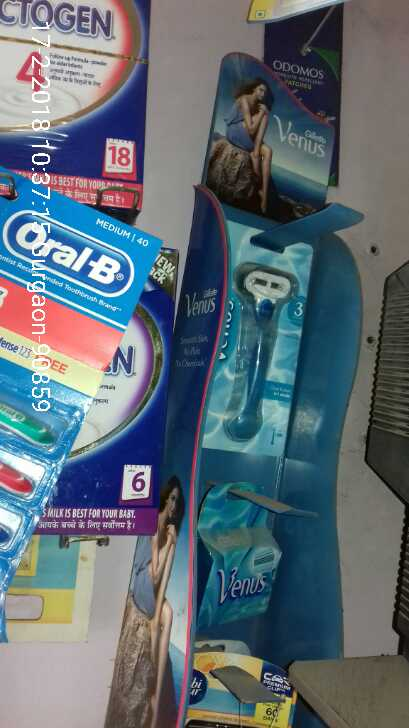beauty: (191, 221, 312, 462), (198, 506, 283, 631)
